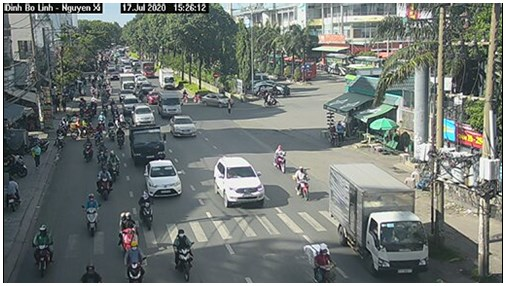di_bo: (31, 142, 46, 170), (227, 98, 233, 115)
xe_hoi: (209, 152, 266, 208), (143, 159, 182, 197), (169, 114, 199, 139), (130, 103, 158, 126), (201, 89, 234, 108), (121, 95, 139, 114)
xe_khach: (157, 89, 182, 119)
xe_may: (26, 223, 60, 277), (302, 239, 338, 282), (172, 227, 195, 281), (122, 239, 148, 282), (116, 209, 140, 255), (293, 163, 316, 202), (136, 189, 155, 230), (84, 192, 101, 235), (94, 165, 112, 202), (273, 141, 288, 175), (106, 148, 120, 181), (79, 134, 94, 161), (95, 135, 108, 166), (261, 91, 282, 110), (52, 123, 66, 150), (115, 126, 125, 148)
xe_tai: (325, 162, 429, 277), (128, 125, 166, 164)
